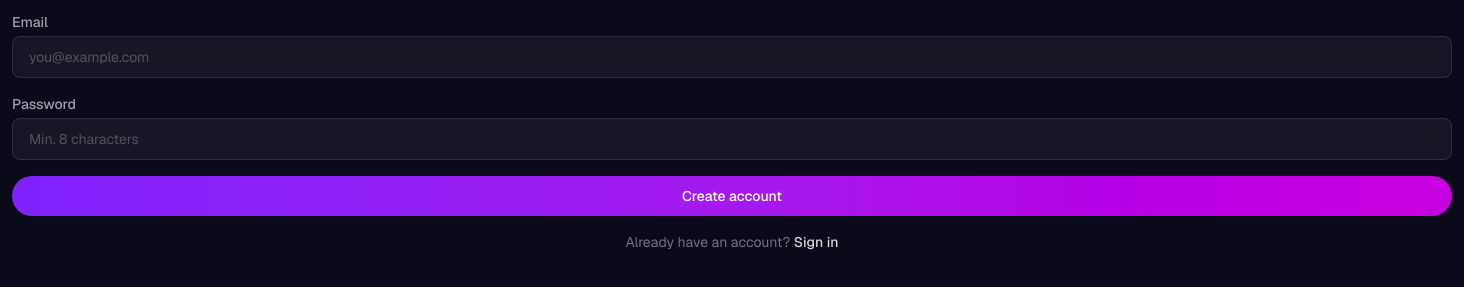
Scenario: RegisterForm › shows client-side error for password < 8 chars on submit
Type "test@example.com" into the field labelled "Email" at (732, 57), box [12, 36, 1452, 78]
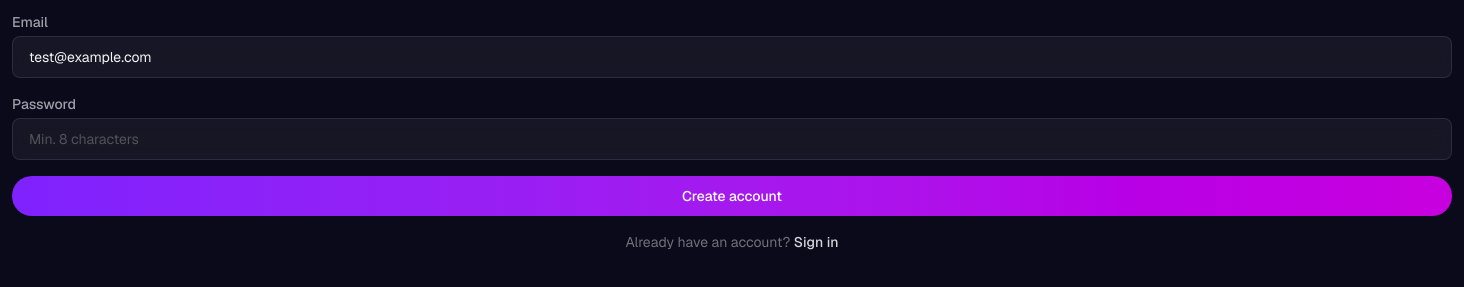
Type "short" into the password field labelled "Password" at (732, 139), box [12, 118, 1452, 160]
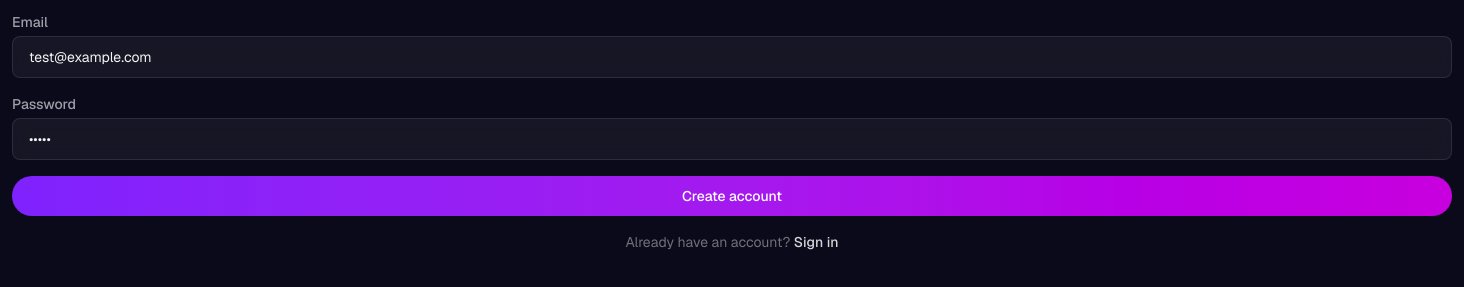
Submit the form "Create account"
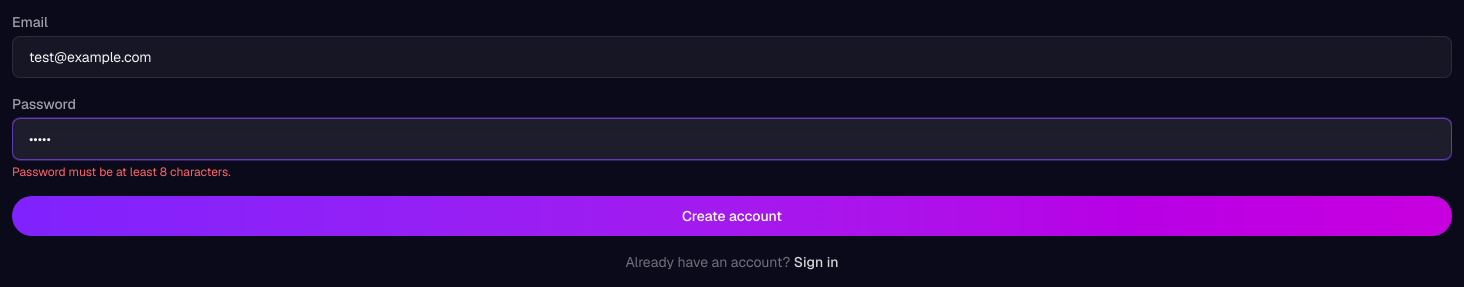
Check: the text "Password must be at least 8 characters." is shown, box [12, 164, 231, 180]
